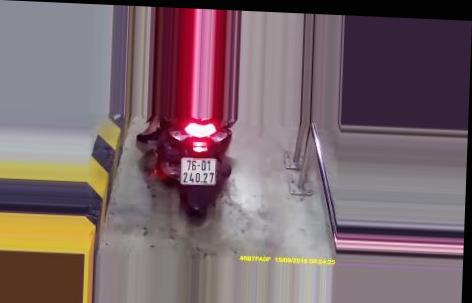License_Plate: (175, 154, 221, 188)
